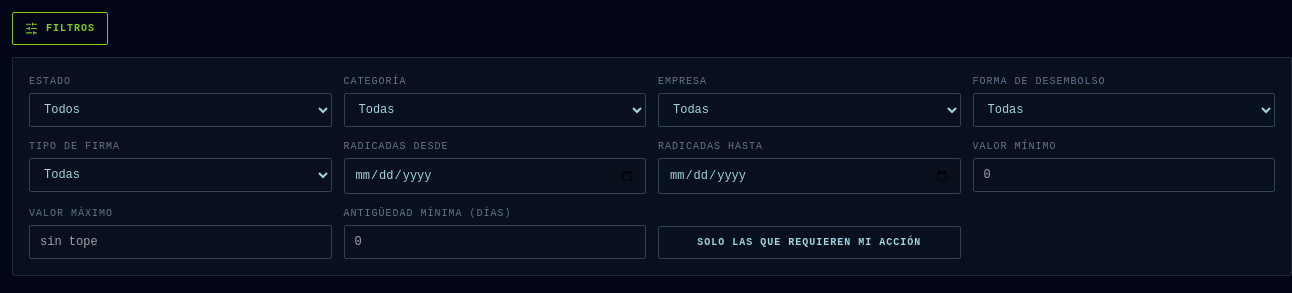
Test case: Panel de filtros › los campos numéricos solo admiten dígitos
The width and height of the screenshot is (1292, 293).
In the field labelled "VALOR MÁXIMO": (180, 242) [29,225,332,259], type "1a2.b3"
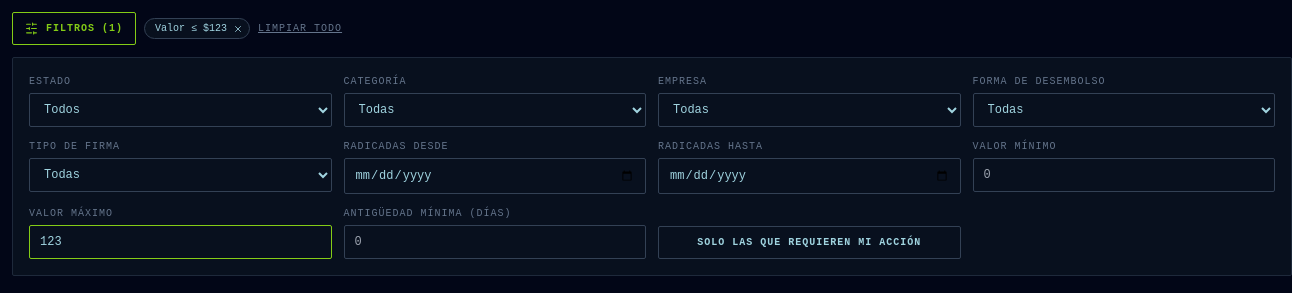
Result: the field labelled "VALOR MÁXIMO" holds "123" at [29,225,332,259]
